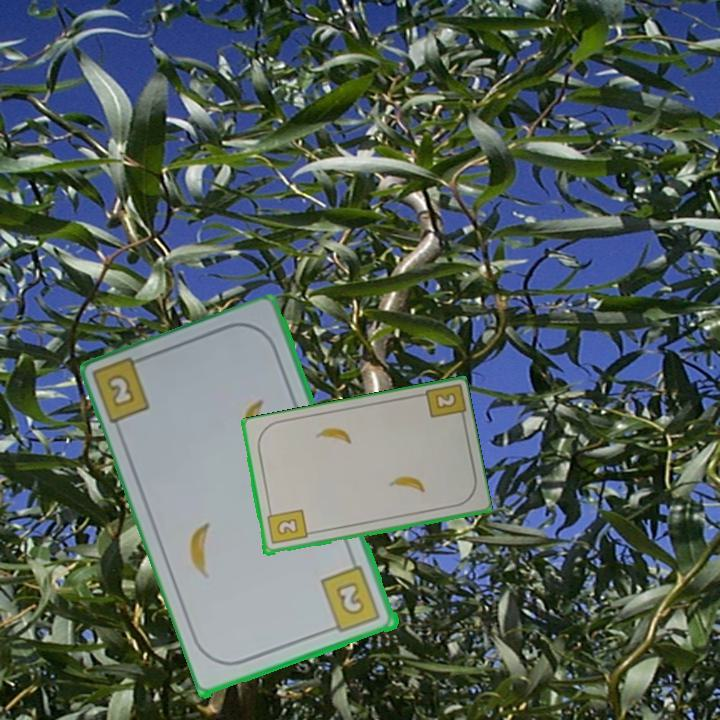2b: (317, 563, 384, 636), (263, 505, 310, 547), (103, 371, 139, 411), (431, 389, 460, 412)
